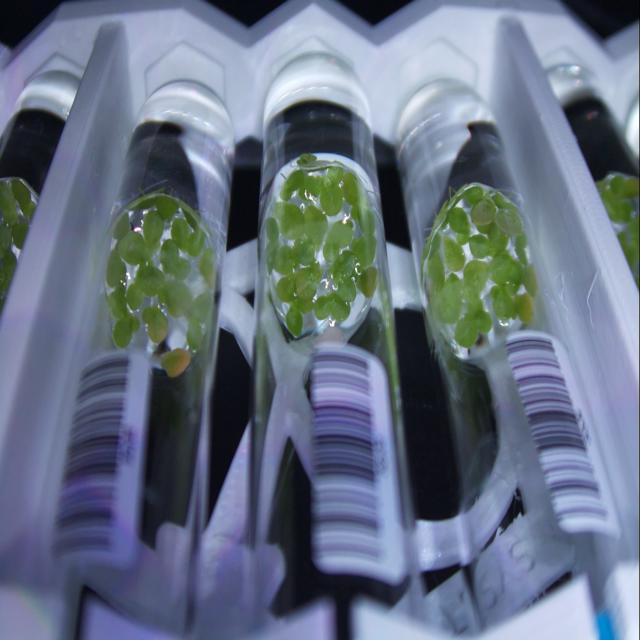Lemna-Gibba: (428, 193, 462, 242), (159, 280, 192, 323), (160, 238, 190, 280), (439, 274, 464, 324), (322, 222, 352, 263), (304, 205, 328, 252), (118, 230, 149, 265), (314, 292, 350, 322), (274, 202, 304, 238), (142, 305, 168, 344), (352, 193, 376, 235), (295, 262, 321, 300), (490, 285, 516, 322), (135, 264, 164, 297), (329, 250, 356, 284), (161, 347, 191, 377), (112, 314, 139, 347), (489, 250, 514, 285), (142, 210, 164, 247), (272, 245, 299, 275), (351, 235, 376, 267), (464, 260, 489, 292), (495, 208, 524, 235), (106, 248, 126, 287), (455, 314, 478, 347), (325, 220, 352, 248), (280, 170, 305, 200), (444, 237, 465, 272), (190, 292, 212, 324), (320, 183, 342, 215), (471, 198, 496, 226), (488, 222, 509, 254), (199, 248, 215, 289), (108, 287, 128, 319), (358, 267, 378, 299), (428, 252, 445, 289), (171, 218, 190, 250), (155, 195, 179, 220), (341, 172, 359, 205), (179, 200, 200, 228), (514, 292, 532, 324), (294, 238, 315, 265), (449, 207, 470, 234), (186, 228, 205, 257), (469, 233, 490, 259), (464, 287, 484, 314), (112, 212, 131, 240), (492, 192, 518, 212), (265, 238, 279, 275), (276, 275, 295, 302), (522, 265, 538, 297), (186, 319, 202, 350), (125, 284, 144, 310), (428, 282, 442, 317), (286, 307, 302, 337), (514, 233, 529, 265), (130, 195, 158, 212), (509, 260, 524, 289), (314, 295, 331, 320), (464, 185, 485, 205), (338, 279, 356, 302), (475, 310, 492, 334), (304, 175, 322, 197), (265, 217, 279, 243), (294, 297, 314, 314), (325, 167, 344, 183), (430, 232, 441, 256), (299, 153, 316, 168), (505, 282, 520, 297), (294, 193, 305, 208), (456, 233, 469, 245), (298, 185, 308, 200), (478, 223, 490, 233), (354, 264, 362, 275)
